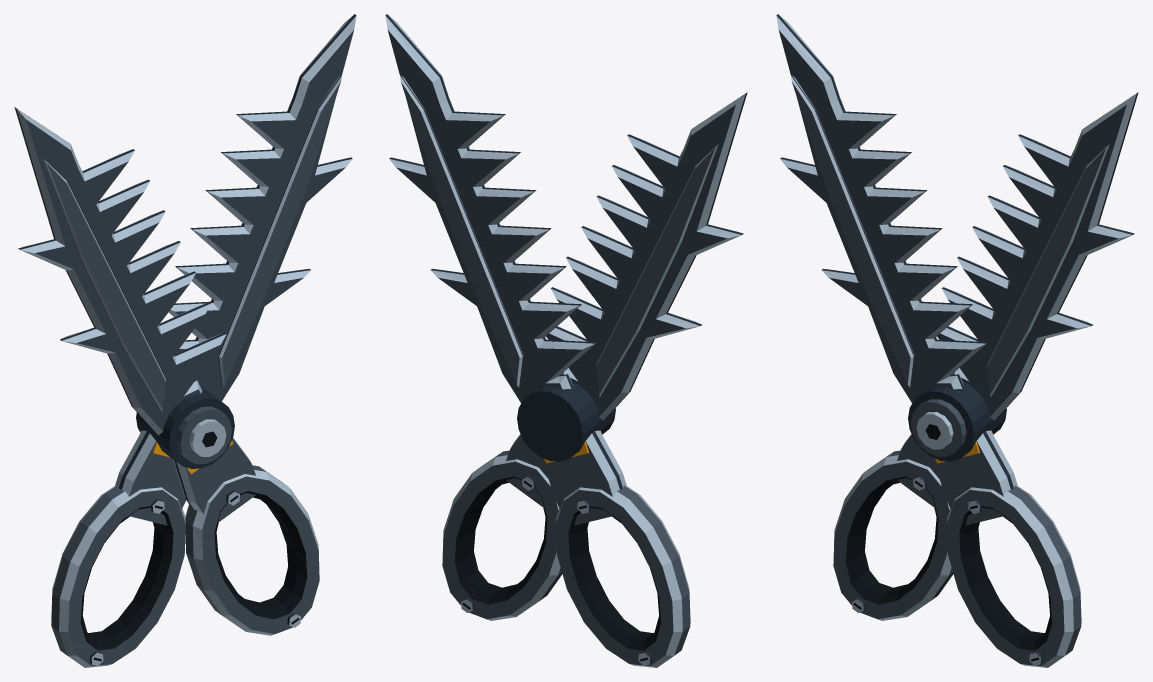
The model's file is PinkingShears_Evolved.obj.
3 renders of one model, left to right at view 1: azimuth 30°, elevation 25°; view 2: azimuth 150°, elevation 25°; view 3: azimuth 330°, elevation 25°, orthographic.
Parts seen in each view (by area): view 1: SteelFrame, BladeFace, GroundSteel, Rubber, DarkSteel; view 2: BladeFace, SteelFrame, GroundSteel, DarkSteel, Rubber; view 3: BladeFace, SteelFrame, GroundSteel, DarkSteel, Rubber.
Part boxes in pixels (box(x1,y1,x2,y2)): SteelFrame: box(47, 82, 340, 666); BladeFace: box(26, 30, 353, 431); GroundSteel: box(16, 14, 356, 667); Rubber: box(80, 431, 307, 661); DarkSteel: box(14, 14, 356, 663); BladeFace: box(387, 30, 735, 416); SteelFrame: box(401, 82, 714, 666); GroundSteel: box(385, 15, 745, 667); DarkSteel: box(385, 14, 747, 664); Rubber: box(454, 476, 660, 661); BladeFace: box(778, 30, 1126, 416); SteelFrame: box(792, 82, 1105, 666); GroundSteel: box(776, 15, 1136, 667); DarkSteel: box(776, 14, 1138, 664); Rubber: box(845, 424, 1051, 661).
Bounding box in the file's own units: 0.6394 × 1.02 × 0.1295.
